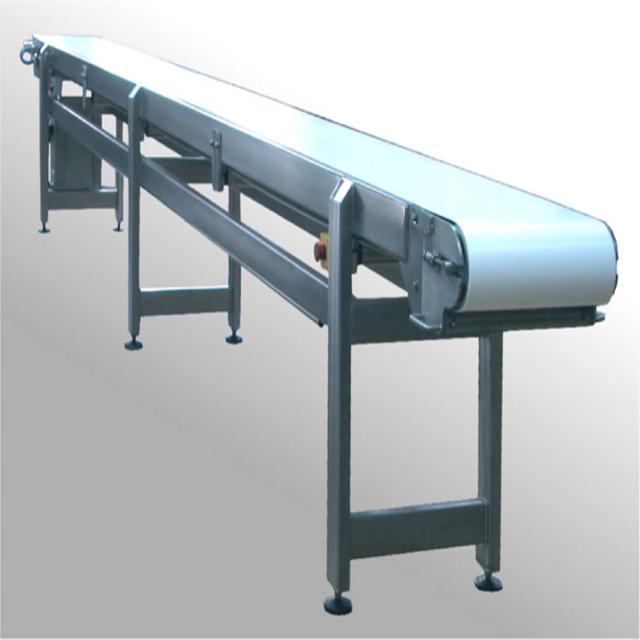Convoyeur: (22, 27, 623, 346)
